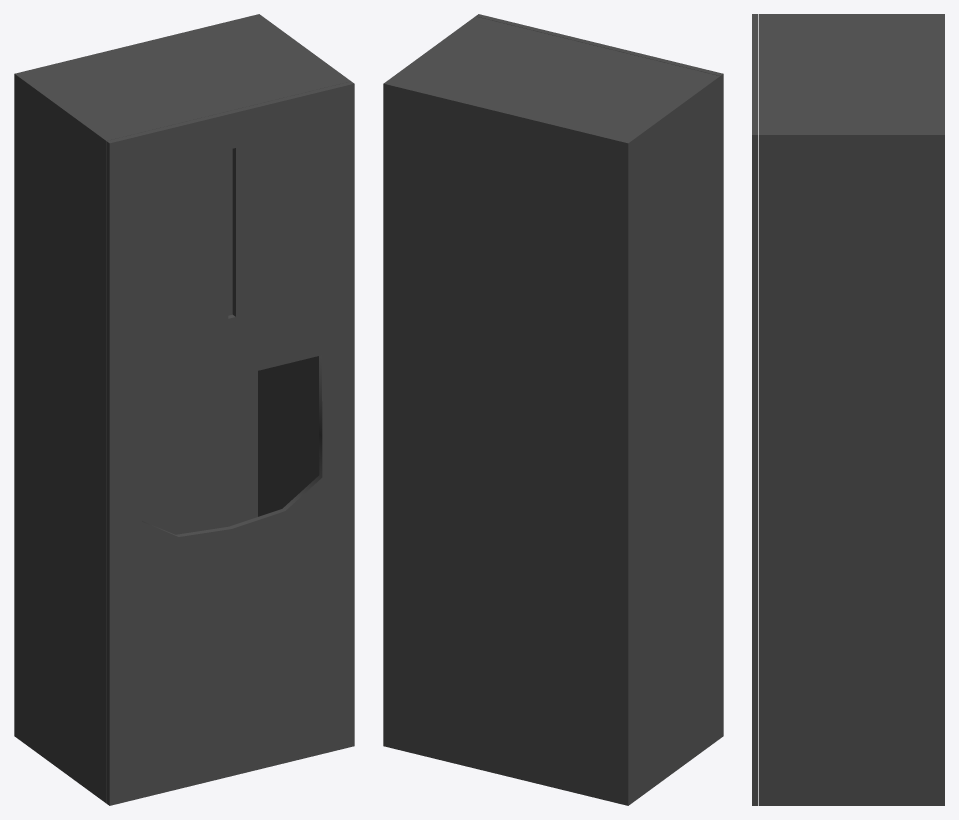
The model's file is LC_3100_papertowel_dispenser_LOD1.FBX.
The picture shows the model from 3 angles, left to right: view 1: azimuth 30°, elevation 25°; view 2: azimuth 150°, elevation 25°; view 3: azimuth 270°, elevation 25°; orthographic projection.
Parts seen in each view (by area): view 1: LC_3100_papertowel_dispenser_LOD1; view 2: LC_3100_papertowel_dispenser_LOD1; view 3: LC_3100_papertowel_dispenser_LOD1.
Part boxes in pixels (x1,y1,x2,y2): LC_3100_papertowel_dispenser_LOD1: (14,14,354,805); LC_3100_papertowel_dispenser_LOD1: (383,14,723,805); LC_3100_papertowel_dispenser_LOD1: (752,14,944,805).
Bounding box in the file's own units: 18.32 × 47.37 × 12.33.
1 material, 1 textured.
